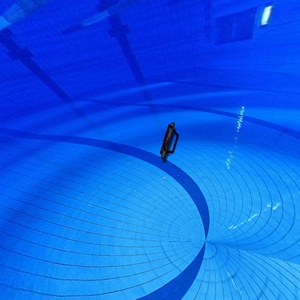submarine: (157, 122, 181, 165)
